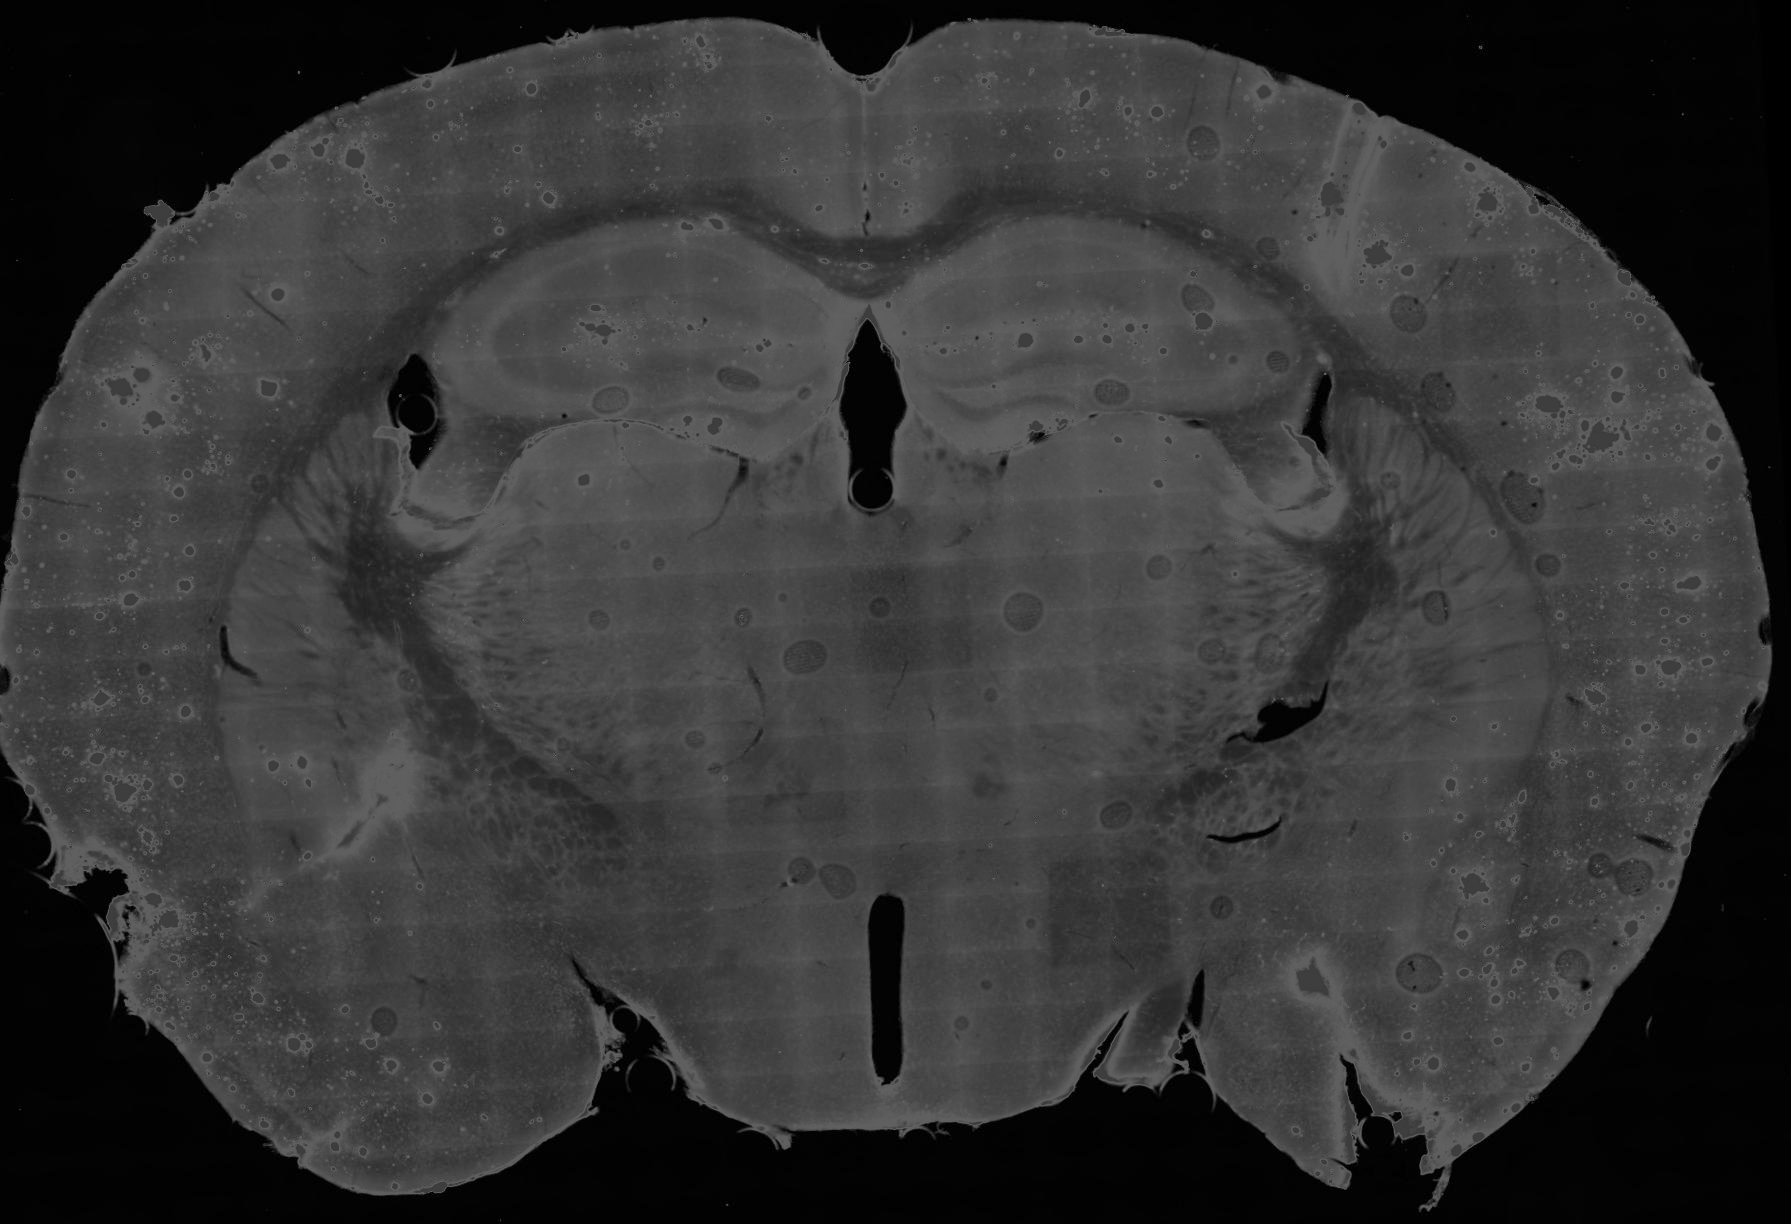Cerebral nuclei: (1321, 387, 1550, 939), (216, 411, 423, 920)
Hippocampal formation: (436, 218, 870, 462), (870, 216, 1301, 451)
Hypothalamus: (885, 796, 1245, 1133), (574, 822, 891, 1140)
Retrosplenial area: (738, 30, 866, 240), (864, 41, 972, 242)
Somatosensory area: (4, 29, 633, 618), (1085, 30, 1753, 553)
Thalamus: (871, 407, 1335, 844), (421, 408, 883, 844)
